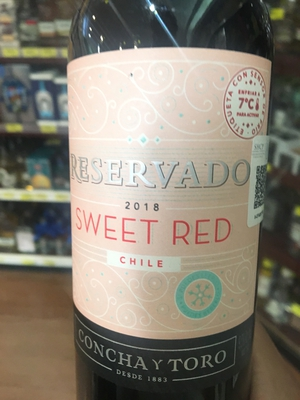reservado sweet red: (67, 8, 270, 400)
